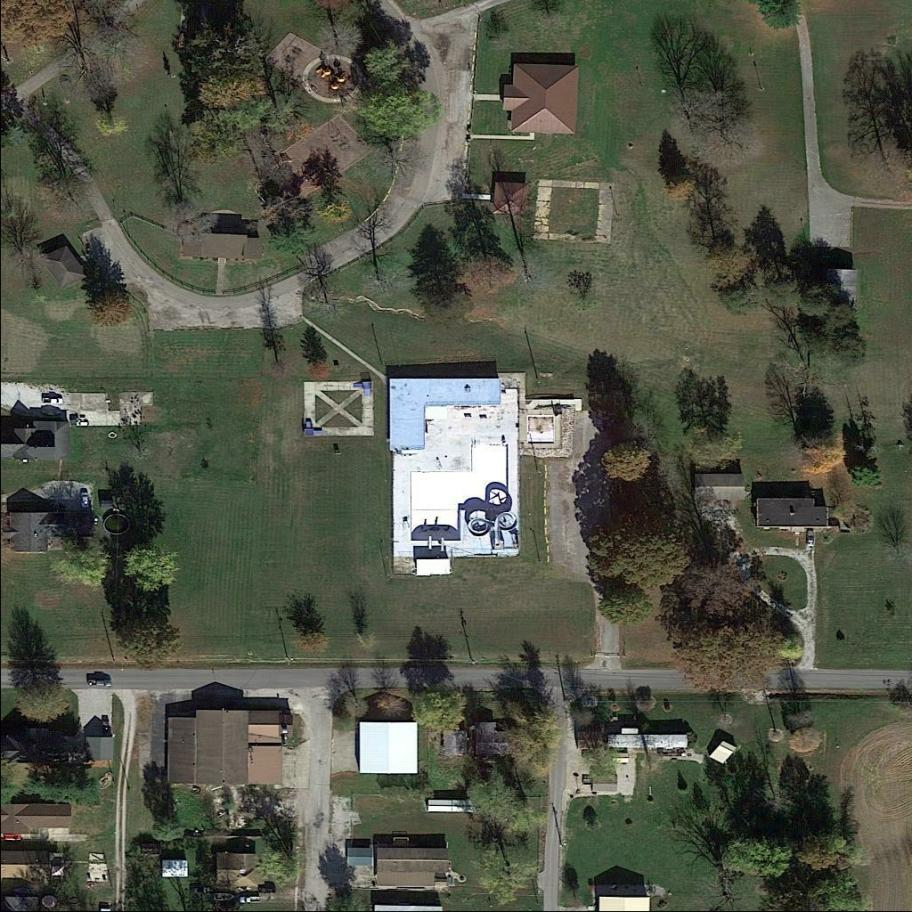ship: (213, 892, 235, 901)
small-vehicle: (87, 678, 113, 688), (80, 492, 91, 509), (102, 714, 110, 735), (71, 419, 89, 428), (42, 397, 64, 404), (240, 896, 260, 903), (259, 885, 276, 893), (806, 530, 814, 547)
